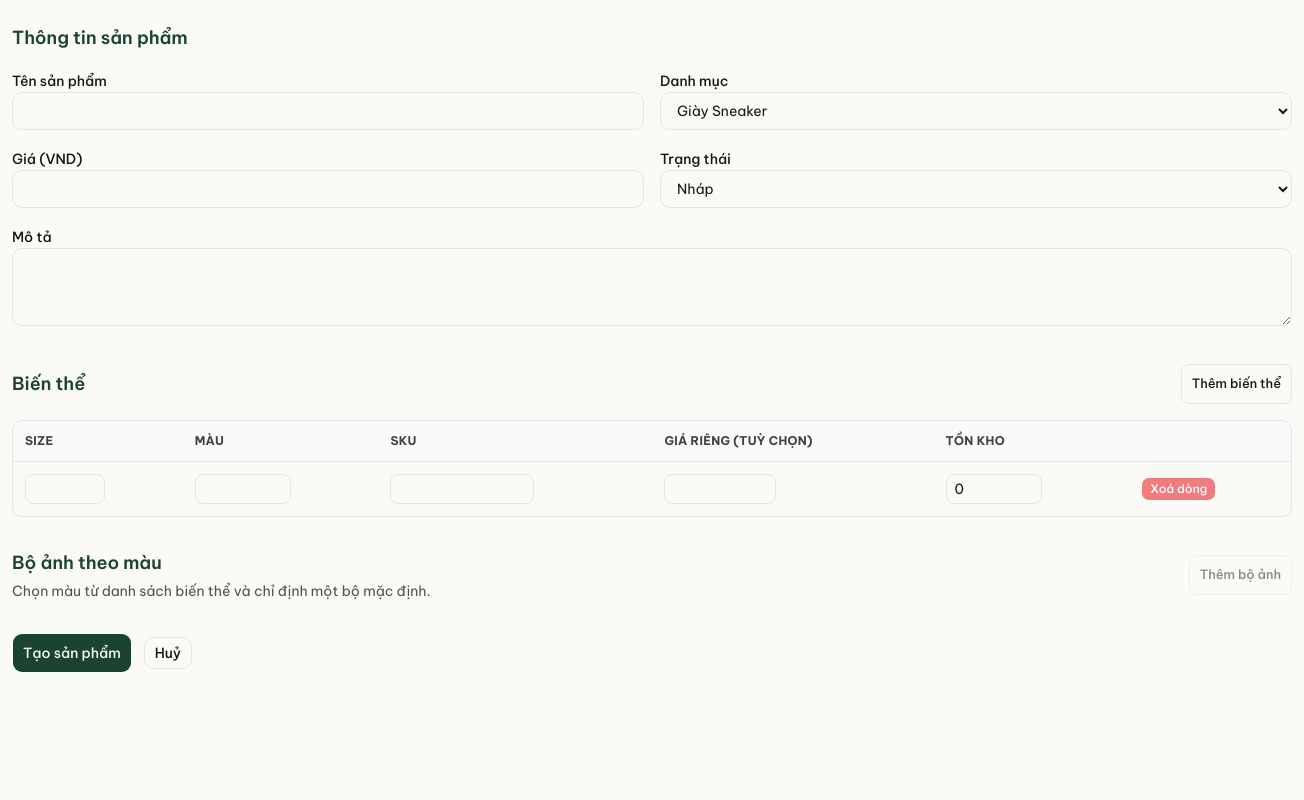
Test: ProductForm — biến thể inline › bấm 'Thêm biến thể' → tăng số dòng
The width and height of the screenshot is (1304, 800).
Click the button "Thêm biến thể" at (1236, 384), box [1181,364,1292,404]
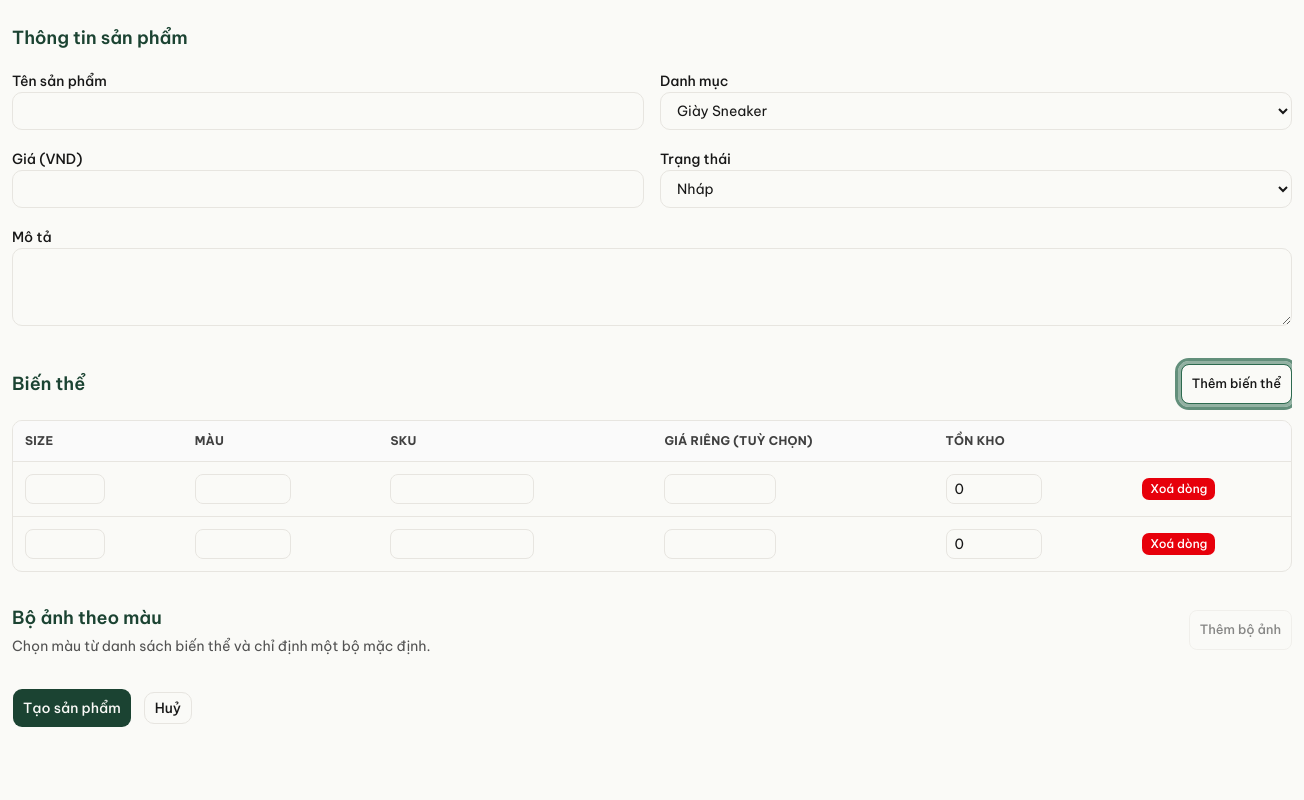
Now the number of rows with test id "variant-row" is 2, box [13,462,1291,516]; [13,516,1291,571]
